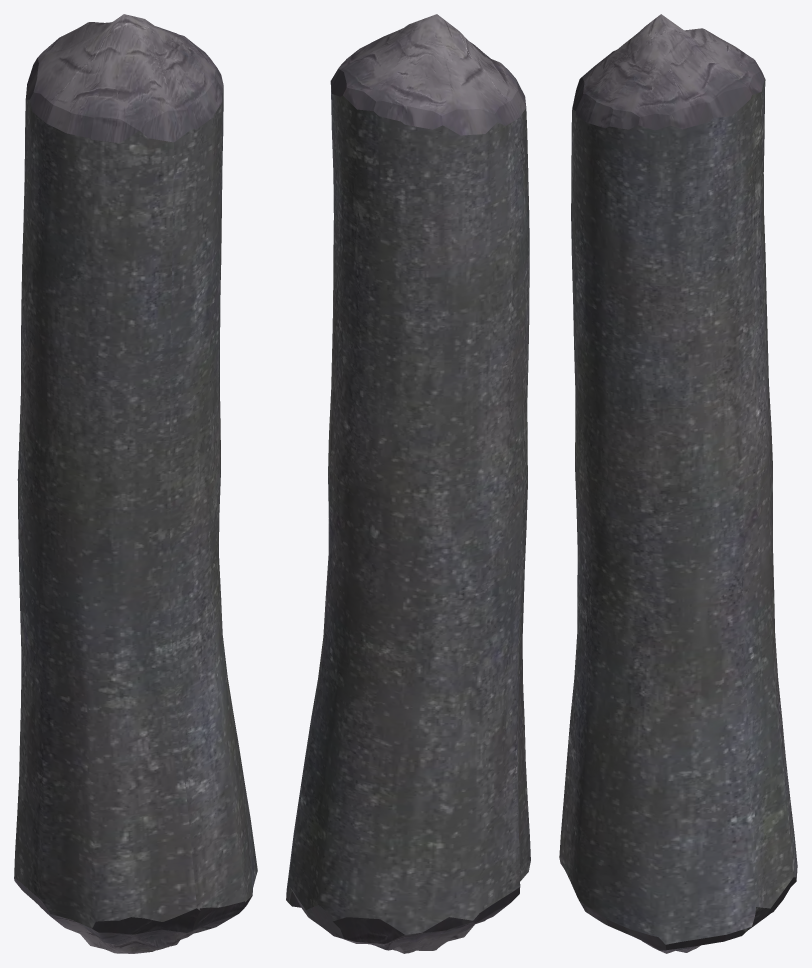
3 views of the same model, side by side, from view 1: azimuth 30°, elevation 25°; view 2: azimuth 150°, elevation 25°; view 3: azimuth 270°, elevation 25° (orthographic). The views are drawn at different scales.
Visible parts, largest first — view 1: SM_FH_Ash_Tree_03_quarter_01_LOD0; view 2: SM_FH_Ash_Tree_03_quarter_01_LOD0; view 3: SM_FH_Ash_Tree_03_quarter_01_LOD0.
Boxes of the visible parts, x1,y1,x2,y2 form: SM_FH_Ash_Tree_03_quarter_01_LOD0: [14, 14, 257, 953]; SM_FH_Ash_Tree_03_quarter_01_LOD0: [286, 14, 530, 953]; SM_FH_Ash_Tree_03_quarter_01_LOD0: [559, 14, 797, 953].
Size of the model in its own units: 0.5918 by 2.46 by 0.5786.
Materials: 1 (1 with a texture image).
